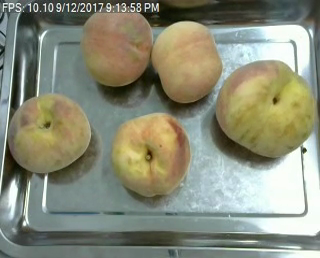Peach: (214, 59, 317, 157), (7, 92, 91, 172), (111, 112, 190, 197), (80, 3, 152, 86), (151, 19, 222, 102)
